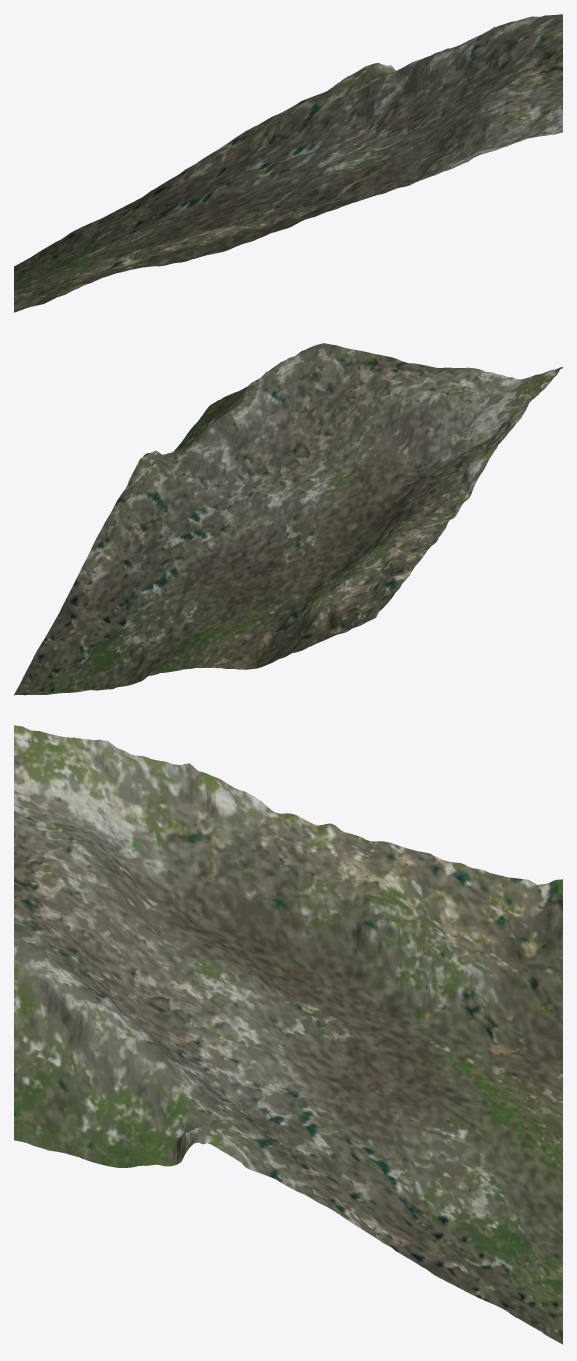
3 views of the same model, one above another, from view 1: azimuth 90°, elevation 25°; view 2: azimuth 150°, elevation 25°; view 3: azimuth 270°, elevation 25° (orthographic). The views are drawn at different scales.
Size of the model in its own units: 250 by 184 by 241.
1 material, 1 textured.
